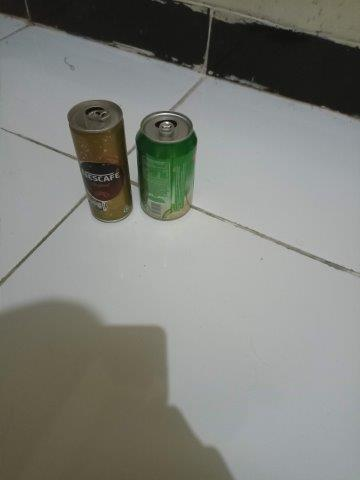kaleng: (67, 99, 133, 223), (136, 110, 198, 221)
